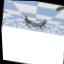drone: (21, 15, 47, 30)
